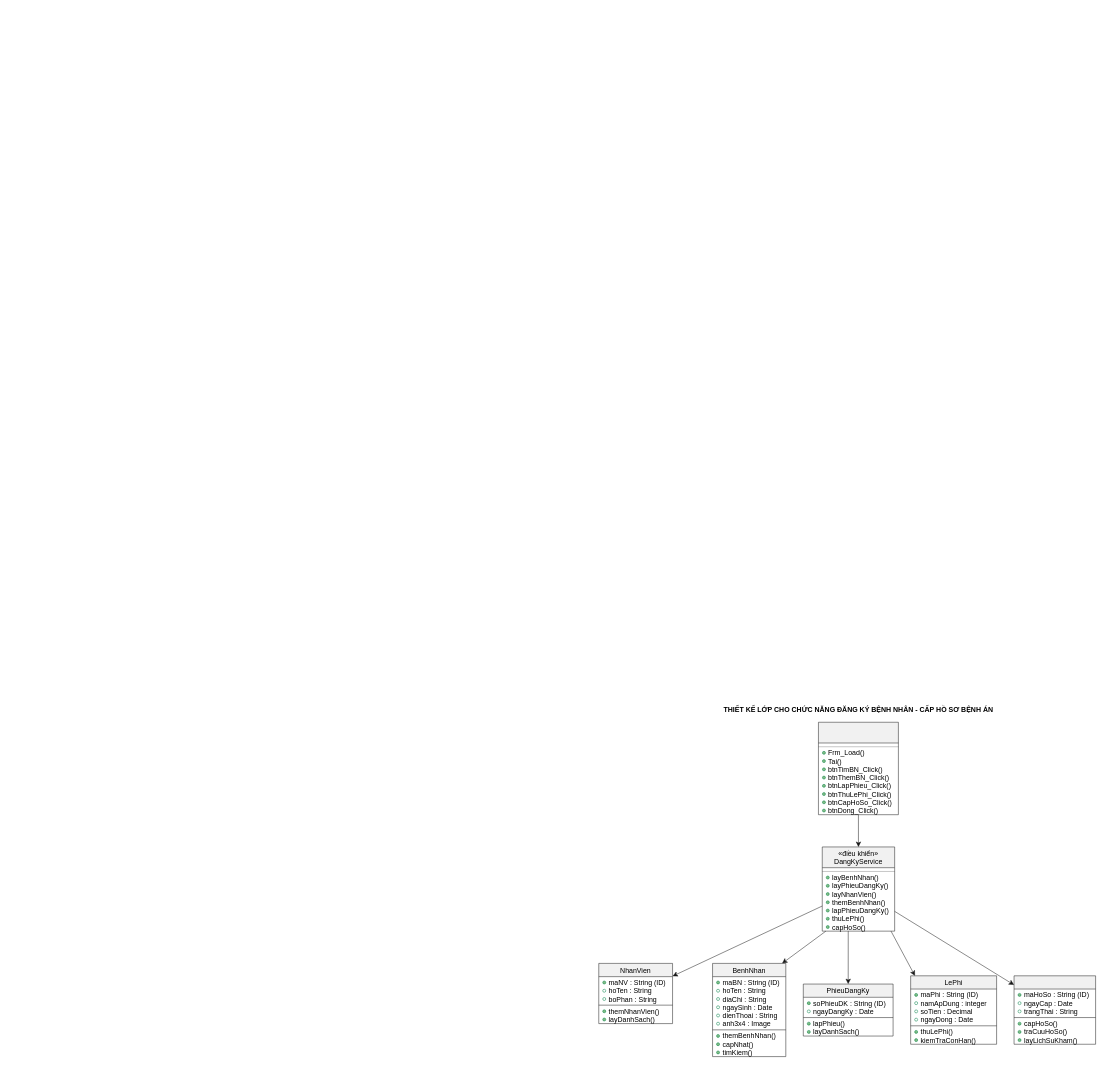
Some shapes in this 1105 by 1066 pixel diagram are drawn without their labels. The shapes that lost their labels are listed below. From the top down, each one's box as (x1, y1, x2, y2) in pixels, then its label:
(818, 722, 898, 815): «giao diện» FrmDangKy
(1014, 975, 1096, 1044): HoSoBenhAn
